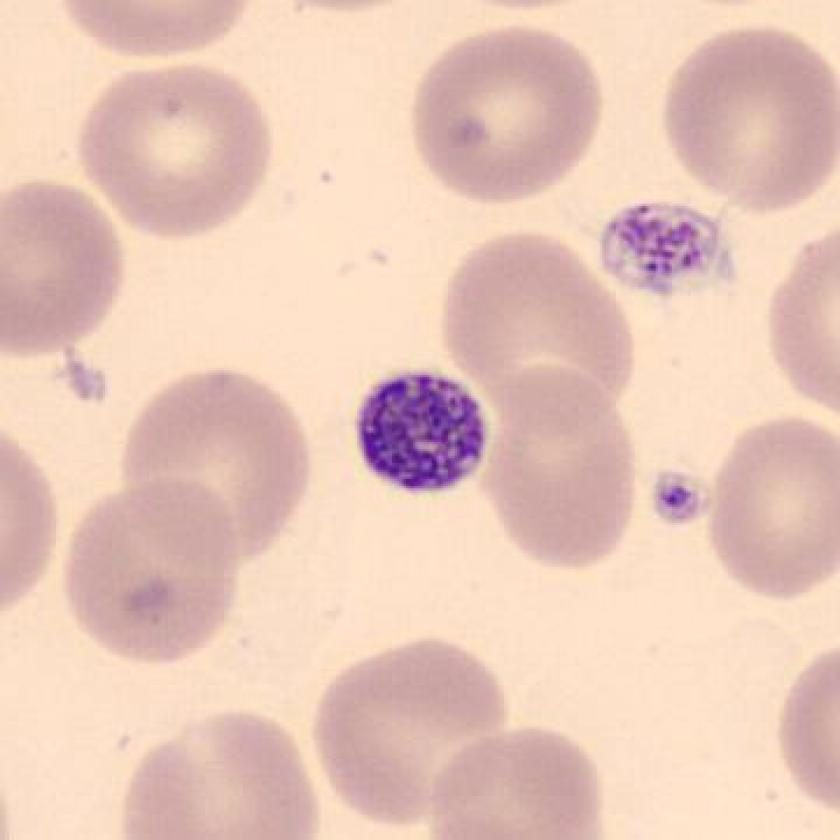platelets: (344, 355, 510, 508), (587, 191, 745, 313)
